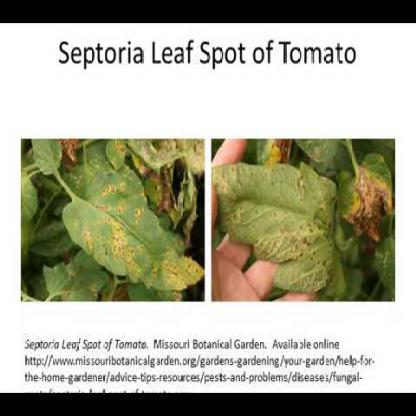tomato septoria leaf spot: (59, 157, 202, 292), (211, 157, 341, 292)
